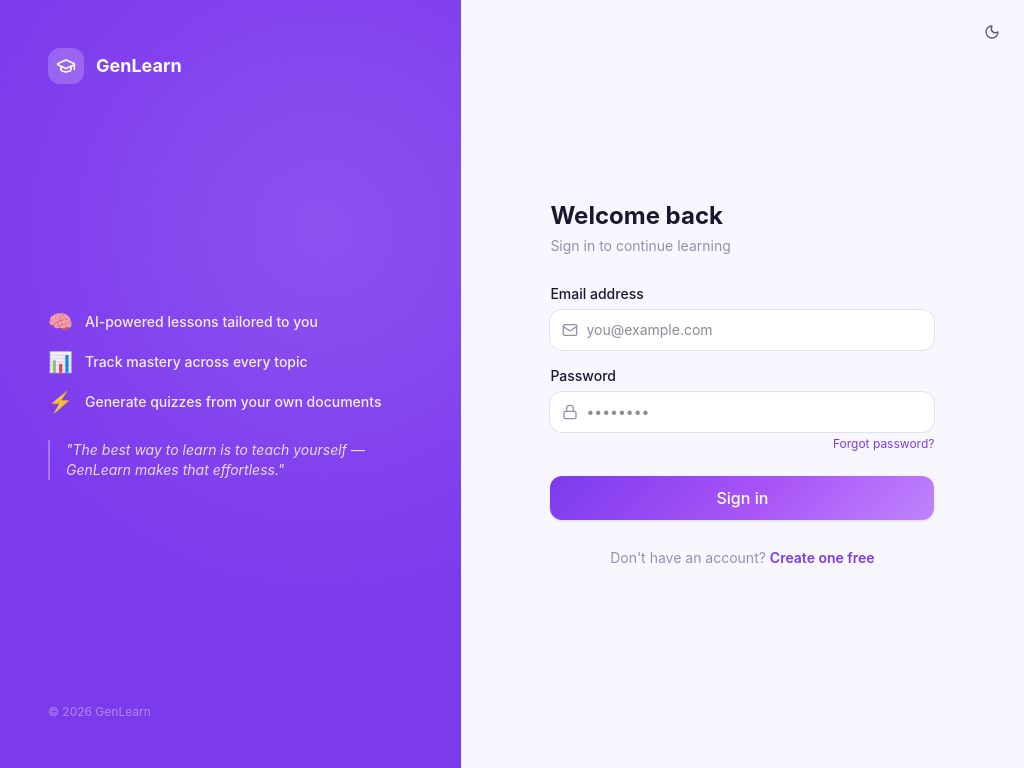
LoginPage › unverified email › shows a Resend verification email link when login fails with EMAIL_NOT_VERIFIED
In the field labelled "Email address": x=742, y=330 [550, 310, 934, 350], type "unverified@test.com"
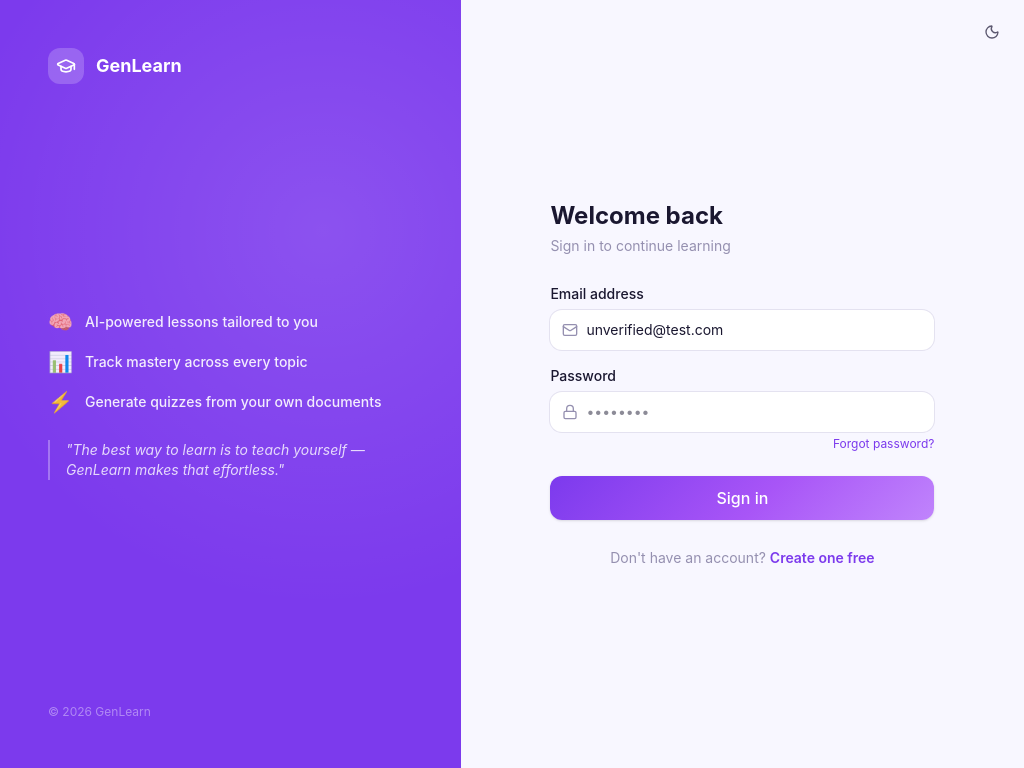
In the password field labelled "Password": x=742, y=412 [550, 392, 934, 432], type "password123"
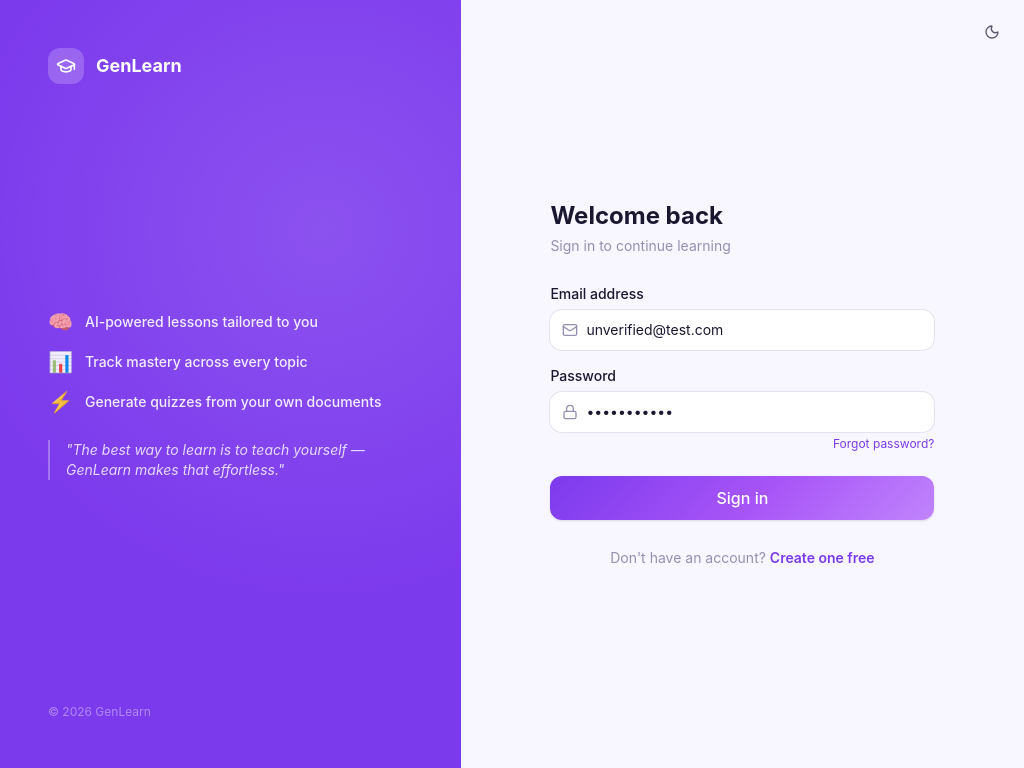
Submit the form from the button "Sign in", box [550, 476, 934, 520]
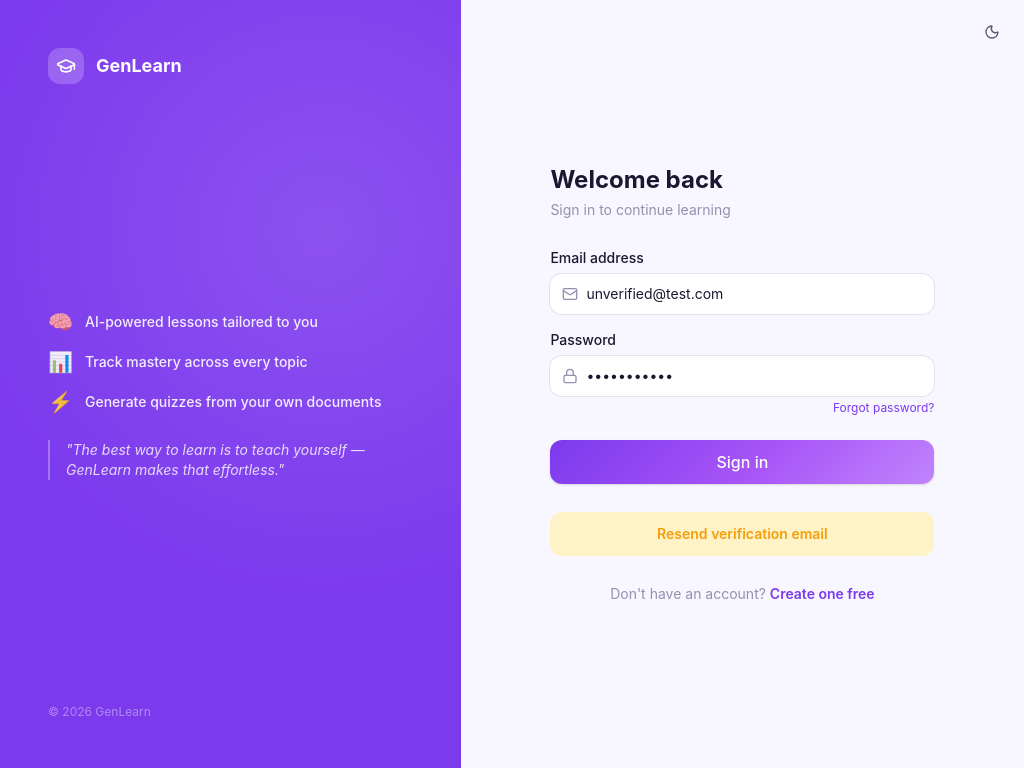
Expected: the button "Resend verification email" is shown, [657, 524, 828, 544]
